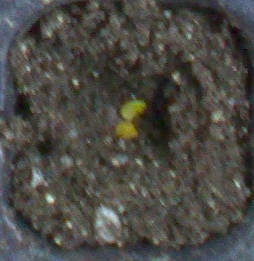chilli seed: (120, 99, 146, 119), (114, 120, 138, 139)
